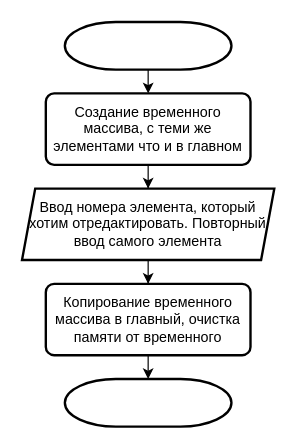
Some shapes in this 295 by 447 pixel diagram are drawn without their labels. Each missing label, with the box of its shape:
Конец: (63, 377, 232, 427)
Начало: (63, 20, 232, 70)
